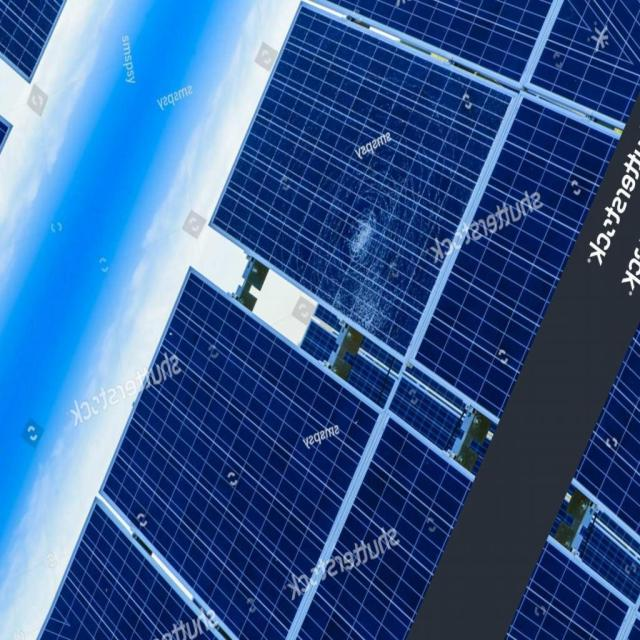cracked: (208, 4, 510, 354)
